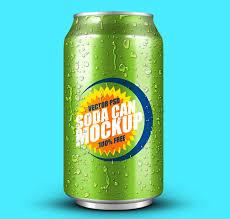Aluminum can: (63, 8, 182, 214)
